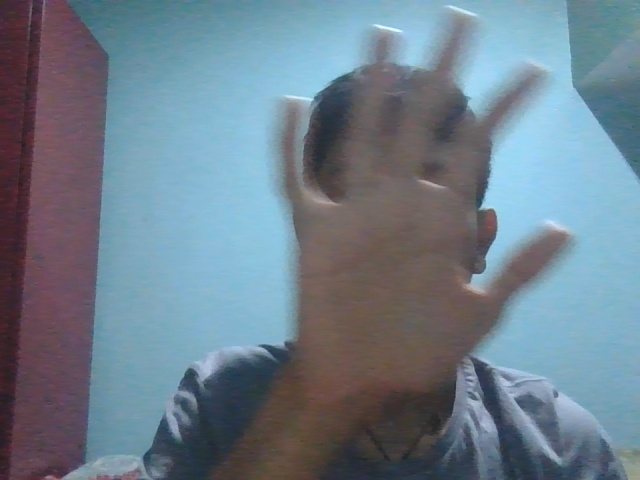hello: (249, 4, 595, 410)
